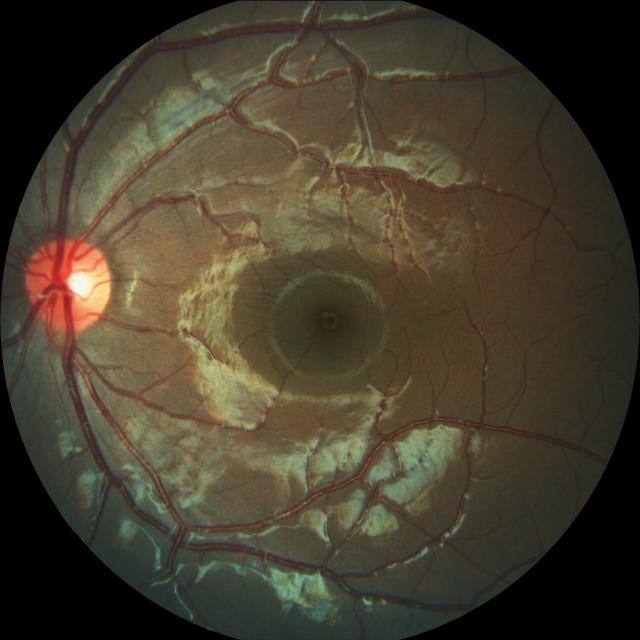OC: (52, 262, 96, 305)
OD: (28, 237, 114, 331)
